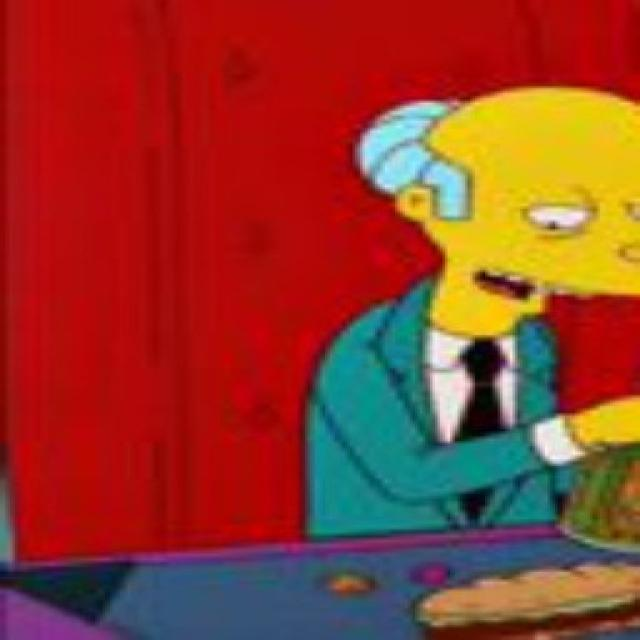Charles Montgomery Burns: (350, 85, 640, 336)
